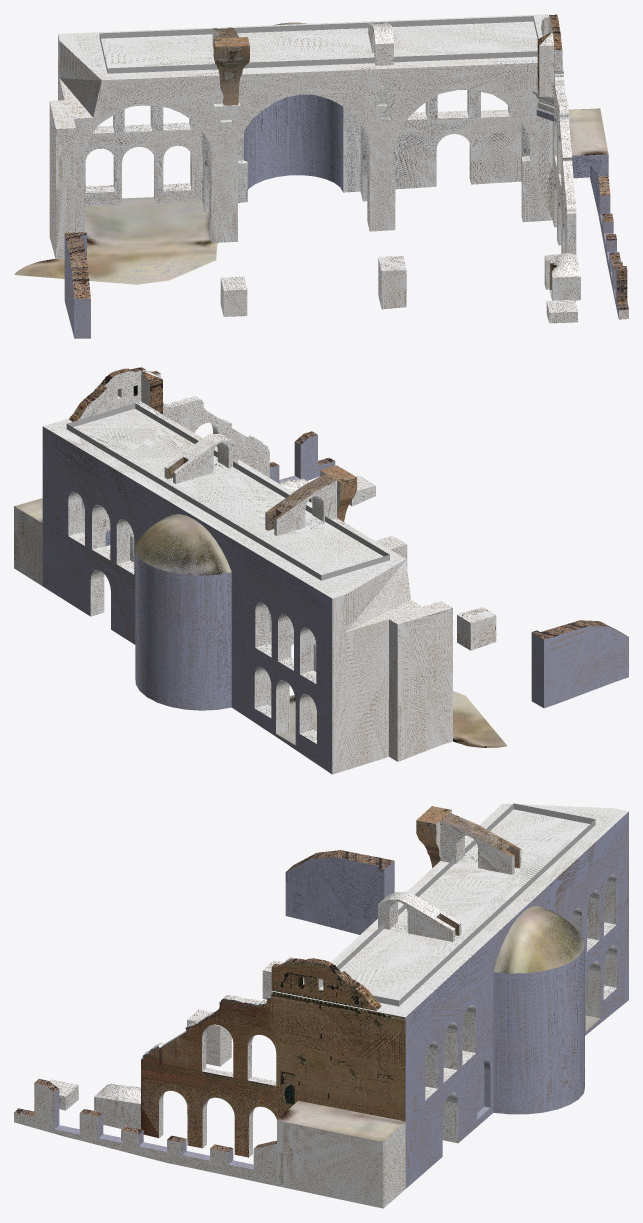
File: Basilica_di_Massenzio__Foro_Romano__Roma.fbx
3 views of the same model, one above another, from view 1: azimuth 30°, elevation 25°; view 2: azimuth 150°, elevation 25°; view 3: azimuth 270°, elevation 25° (orthographic). The views are drawn at different scales.
Visible parts, largest first — view 1: Model; view 2: Model; view 3: Model.
Boxes of the visible parts, box(x1,y1,x2,y2) form: Model: box(14, 14, 628, 338); Model: box(14, 367, 628, 774); Model: box(14, 803, 628, 1208).
Size of the model in its own units: 109 by 38.8 by 94.34.
